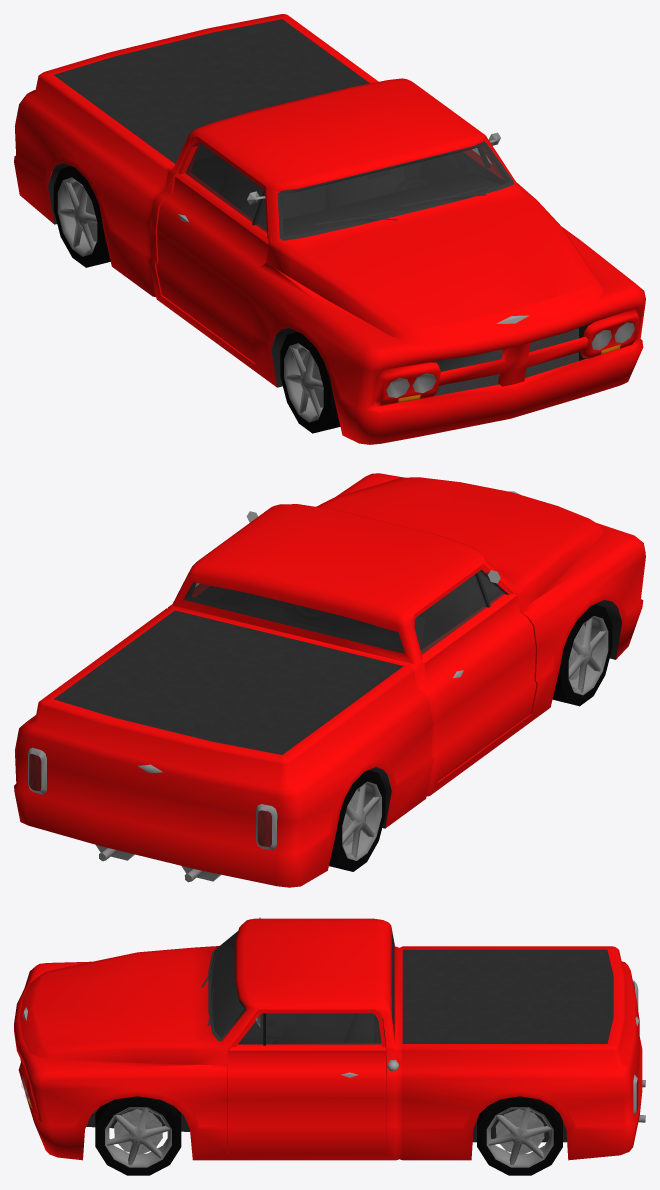
3 renders of one model, top to bottom at view 1: azimuth 30°, elevation 25°; view 2: azimuth 150°, elevation 25°; view 3: azimuth 270°, elevation 25°, orthographic. The views are drawn at different scales.
Visible parts, largest first — view 1: chassis (×6), bonnet_ok, Box001_cor_0, windscre01, wheel (×2), wheel001 (×2), door_rf_ok_janelas_0, Box004_black_0, lente; view 2: chassis (×7), bonnet_ok, Box001_cor_0, wheel (×2), wheel001 (×2), door_rf_ok_janelas_0, lente2, Box004_black_0, exhaust_ok; view 3: chassis (×5), Box004_cor_0, bonnet_ok, wheel003 (×3), wheel002 (×3), door_rf_ok004_janelas_0, windscre01, Box001_black_0.
Part boxes in pixels (x1,y1,x2,y2): chassis (×6): (14,14,645,444); bonnet_ok: (289,197,603,343); Box001_cor_0: (156,136,268,362); windscre01: (282,144,509,236); wheel (×2): (280,331,340,433); wheel001 (×2): (53,166,110,267); door_rf_ok_janelas_0: (185,143,266,232); Box004_black_0: (418,152,502,185); lente: (387,323,633,397); chassis (×7): (14,473,645,887); bonnet_ok: (316,477,603,596); Box001_cor_0: (412,564,536,781); wheel (×2): (552,604,612,706); wheel001 (×2): (329,770,385,871); door_rf_ok_janelas_0: (414,571,504,654); lente2: (30,754,271,846); Box004_black_0: (189,583,266,606); exhaust_ok: (96,845,221,882); chassis (×5): (14,918,642,1160); Box004_cor_0: (227,1009,386,1153); bonnet_ok: (19,947,192,1064); wheel003 (×3): (95,1096,181,1175); wheel002 (×3): (477,1096,562,1175); door_rf_ok004_janelas_0: (238,1013,381,1044); windscre01: (211,931,244,1037); Box001_black_0: (234,947,337,1043).
Size of the model in its own units: 0.06 by 0.0379 by 0.1348.
20 materials, 9 textured.
